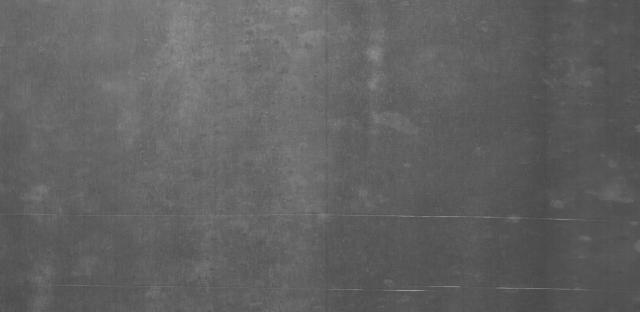waist_folding: (263, 167, 597, 308)
